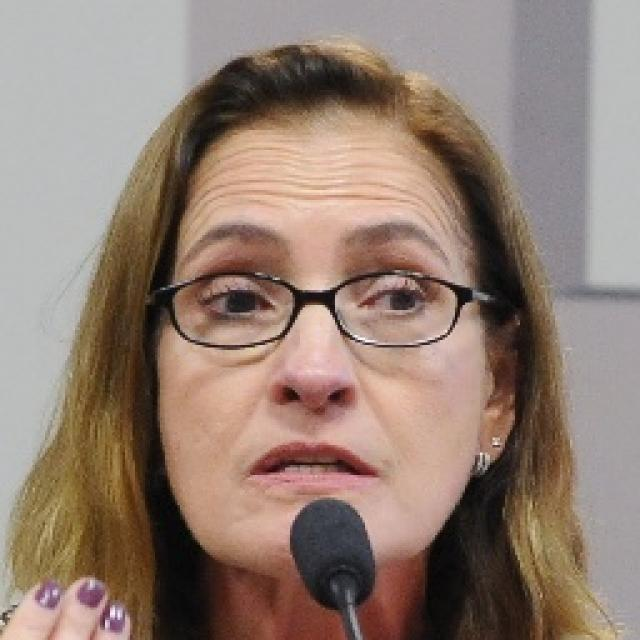earlobe: (475, 408, 514, 470)
eye: (200, 283, 276, 319), (355, 283, 425, 314)
nose: (271, 393, 358, 433)
wholeear: (475, 315, 526, 470)
